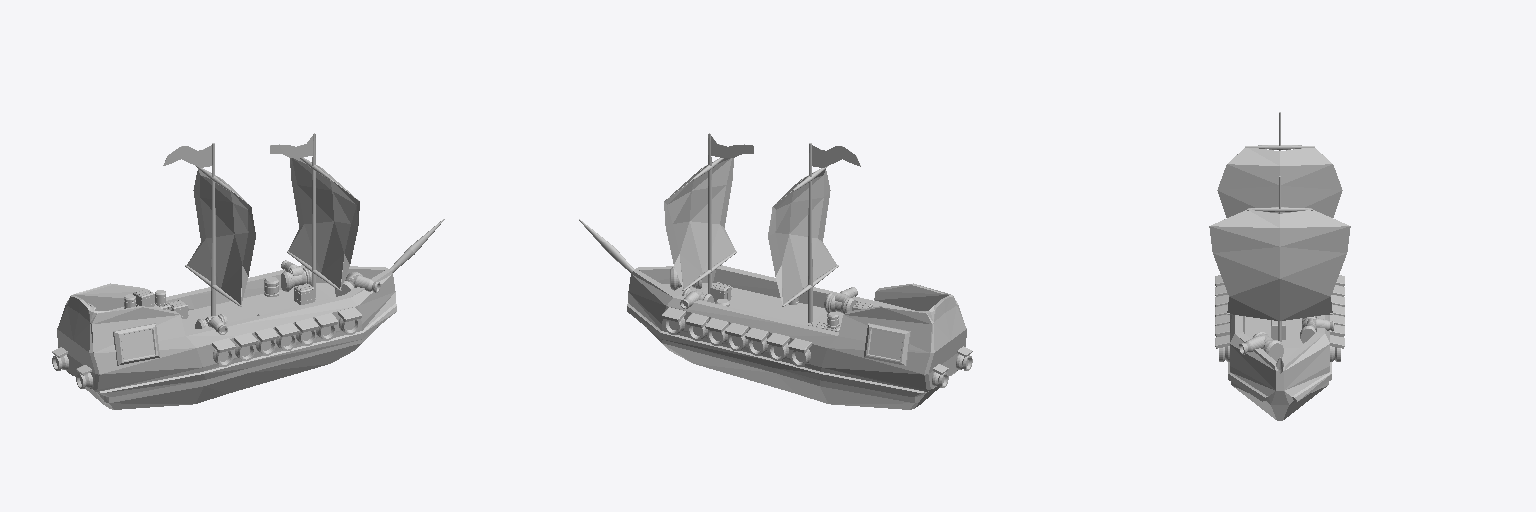
File: Boss_Ship_Common.obj
3 views of the same model, side by side, from view 1: azimuth 30°, elevation 25°; view 2: azimuth 150°, elevation 25°; view 3: azimuth 270°, elevation 25° (orthographic).
Visible parts, largest first — view 1: corpus, Plane.002, Plane, okno, Plane.001, Balka1.001, Balka1.002; view 2: corpus, Plane.002, Plane, okno.001, Plane.001, Balka1.001, Balka1.002; view 3: Plane.002, corpus, Plane.
Part boxes in pixels (left/top/right/bottom): corpus: left=57, top=265, right=396, bottom=409; Plane.002: left=288, top=158, right=359, bottom=288; Plane: left=187, top=169, right=255, bottom=304; okno: left=113, top=323, right=159, bottom=365; Plane.001: left=163, top=145, right=211, bottom=167; Balka1.001: left=211, top=143, right=215, bottom=315; Balka1.002: left=312, top=133, right=315, bottom=297; corpus: left=627, top=265, right=966, bottom=409; Plane.002: left=664, top=158, right=735, bottom=288; Plane: left=768, top=169, right=836, bottom=304; okno.001: left=864, top=323, right=910, bottom=365; Plane.001: left=812, top=145, right=860, bottom=167; Balka1.001: left=808, top=143, right=812, bottom=322; Balka1.002: left=708, top=133, right=711, bottom=293; Plane.002: left=1209, top=210, right=1350, bottom=320; corpus: left=1228, top=315, right=1331, bottom=420; Plane: left=1217, top=148, right=1342, bottom=217.
Bounding box in the file's own units: 21.47 × 13.86 × 6.95.